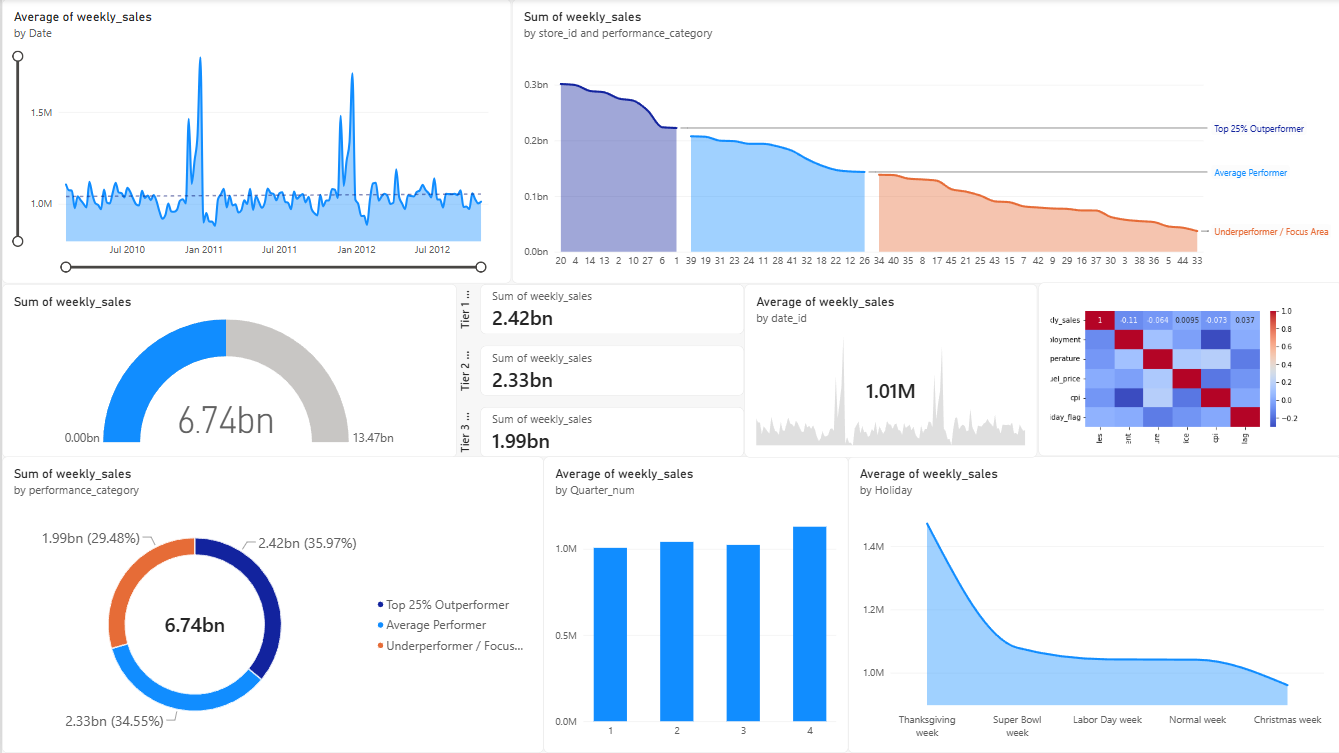

Layout of this report page (visuals, bound fields, positions):
{"tool":"powerbi","page":{"name":"Page 1","canvas":[1920,1080],"ordinal":0},"visuals":[{"type":"areaChart","fields":{"Category":["Calendar.Date"],"Y":["Avg(sales fact_weekly_sales.weekly_sales)"]},"box":[0,0,729.5,407.4],"z":1000},{"type":"cardVisual","fields":{"Data":["Sum(sales fact_weekly_sales.weekly_sales)"],"Rows":["sales dim_store.sales_tier"]},"box":[651,406.1,412.3,248.9],"z":1001},{"type":"stackedAreaChart","fields":{"Category":["sales dim_date.Holiday"],"Y":["Avg(sales fact_weekly_sales.weekly_sales)"]},"box":[1212.6,656.3,707.5,424.5],"z":1002},{"type":"areaChart","fields":{"Category":["sales fact_weekly_sales.store_id"],"Series":["sales dim_store.performance_category"],"Y":["Sum(sales fact_weekly_sales.weekly_sales)"]},"box":[729.5,0,1190.6,407.4],"z":1003},{"type":"gauge","fields":{"Y":["Sum(sales fact_weekly_sales.weekly_sales)"]},"box":[0,407.4,651.4,248.9],"z":1004},{"type":"columnChart","fields":{"Category":["sales dim_date.Quarter_num"],"Y":["Avg(sales fact_weekly_sales.weekly_sales)"]},"box":[775.9,656.3,436.7,424.5],"z":1005},{"type":"kpi","fields":{"Indicator":["Avg(sales fact_weekly_sales.weekly_sales)"],"TrendLine":["sales fact_weekly_sales.date_id"]},"box":[1063.8,407.4,419.6,248.9],"z":1006},{"type":"pythonVisual","fields":{"Values":["sales fact_weekly_sales.weekly_sales","sales fact_weekly_sales.unemployment","sales fact_weekly_sales.temperature","sales fact_weekly_sales.fuel_price","Sum(sales fact_weekly_sales.cpi)","sales dim_date.Holiday_flag"]},"box":[1485.3,407,436.1,248.4],"z":1007},{"type":"donutChart","fields":{"Category":["sales dim_store.performance_category"],"Y":["Sum(sales fact_weekly_sales.weekly_sales)"]},"box":[0,656.3,775.9,424.5],"z":1008}]}

Visuals, with their boxes in screenshot pixels (x1, y1, x2, y2), scaled from the page's 1920x1080 canvas onto the 1339x753 screenshot:
areaChart - Calendar.Date x Avg(sales fact_weekly_sales.weekly_sales): (left=0, top=0, right=509, bottom=284)
cardVisual - Sum(sales fact_weekly_sales.weekly_sales) x sales dim_store.sales_tier: (left=454, top=283, right=742, bottom=457)
stackedAreaChart - sales dim_date.Holiday x Avg(sales fact_weekly_sales.weekly_sales): (left=846, top=458, right=1338, bottom=752)
areaChart - sales fact_weekly_sales.store_id x sales dim_store.performance_category: (left=509, top=0, right=1338, bottom=284)
gauge - Sum(sales fact_weekly_sales.weekly_sales): (left=0, top=284, right=454, bottom=458)
columnChart - sales dim_date.Quarter_num x Avg(sales fact_weekly_sales.weekly_sales): (left=541, top=458, right=846, bottom=752)
kpi - Avg(sales fact_weekly_sales.weekly_sales) x sales fact_weekly_sales.date_id: (left=742, top=284, right=1035, bottom=458)
pythonVisual - sales fact_weekly_sales.weekly_sales x sales fact_weekly_sales.unemployment: (left=1036, top=284, right=1338, bottom=457)
donutChart - sales dim_store.performance_category x Sum(sales fact_weekly_sales.weekly_sales): (left=0, top=458, right=541, bottom=752)
